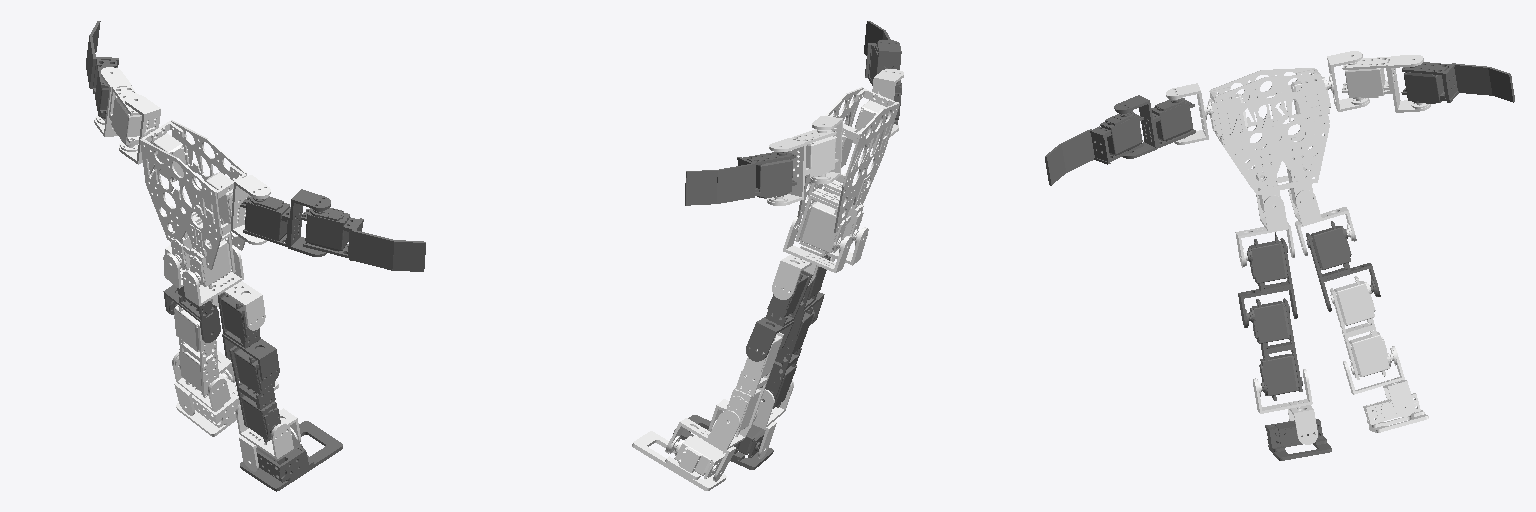
robot.urdf — hadron_urdf:
<robot
  name="hadron_urdf">
  <link
    name="base_link">
    <inertial>
      <origin
        xyz="-0.12049 0.02434 0.24105"
        rpy="0 0 0" />
      <mass
        value="0.12859" />
      <inertia
        ixx="0.00045781"
        ixy="1.7535E-05"
        ixz="4.7429E-05"
        iyy="0.00029671"
        iyz="2.2693E-05"
        izz="0.000194" />
    </inertial>
    <visual>
      <origin
        xyz="0 0 0"
        rpy="0 0 0" />
      <geometry>
        <mesh
          filename="package://hadron_urdf/meshes/base_link.STL" />
      </geometry>
      <material
        name="">
        <color
          rgba="1 1 1 1" />
      </material>
    </visual>
    <collision>
      <origin
        xyz="0 0 0"
        rpy="0 0 0" />
      <geometry>
        <mesh
          filename="package://hadron_urdf/meshes/base_link.STL" />
      </geometry>
    </collision>
  </link>
  <link
    name="lh">
    <inertial>
      <origin
        xyz="0.0063633 -0.00045084 0.005219"
        rpy="0 0 0" />
      <mass
        value="0.0096497" />
      <inertia
        ixx="7.3178E-07"
        ixy="-4.4687E-09"
        ixz="1.9803E-09"
        iyy="2.9532E-07"
        iyz="2.8745E-07"
        izz="4.3656E-07" />
    </inertial>
    <visual>
      <origin
        xyz="0 0 0"
        rpy="0 0 0" />
      <geometry>
        <mesh
          filename="package://hadron_urdf/meshes/lh.STL" />
      </geometry>
      <material
        name="">
        <color
          rgba="1 1 1 1" />
      </material>
    </visual>
    <collision>
      <origin
        xyz="0 0 0"
        rpy="0 0 0" />
      <geometry>
        <mesh
          filename="package://hadron_urdf/meshes/lh.STL" />
      </geometry>
    </collision>
  </link>
  <joint
    name="lhb"
    type="continuous">
    <origin
      xyz="-0.11052 -0.0628 0.28575"
      rpy="-1.7167 0.043718 -2.9675" />
    <parent
      link="base_link" />
    <child
      link="lh" />
    <axis
      xyz="0 0 1" />
  </joint>
  <link
    name="lh1">
    <inertial>
      <origin
        xyz="-0.013598 0.0019264 0.037691"
        rpy="0 0 0" />
      <mass
        value="0.037526" />
      <inertia
        ixx="1.6432E-05"
        ixy="-8.5053E-08"
        ixz="-3.5882E-07"
        iyy="1.2746E-05"
        iyz="-3.0384E-06"
        izz="3.7068E-06" />
    </inertial>
    <visual>
      <origin
        xyz="0 0 0"
        rpy="0 0 0" />
      <geometry>
        <mesh
          filename="package://hadron_urdf/meshes/lh1.STL" />
      </geometry>
      <material
        name="">
        <color
          rgba="0.50196 0.50196 0.50196 1" />
      </material>
    </visual>
    <collision>
      <origin
        xyz="0 0 0"
        rpy="0 0 0" />
      <geometry>
        <mesh
          filename="package://hadron_urdf/meshes/lh1.STL" />
      </geometry>
    </collision>
  </link>
  <joint
    name="lh01"
    type="continuous">
    <origin
      xyz="0 0 0"
      rpy="0 0.39914 3.1416" />
    <parent
      link="lh" />
    <child
      link="lh1" />
    <axis
      xyz="0 1 0" />
  </joint>
  <link
    name="lh2">
    <inertial>
      <origin
        xyz="-0.018771 0.0071206 0.043526"
        rpy="0 0 0" />
      <mass
        value="0.039826" />
      <inertia
        ixx="3.2464E-05"
        ixy="-2.6612E-07"
        ixz="4.0151E-06"
        iyy="3.0232E-05"
        iyz="1.9811E-06"
        izz="3.318E-06" />
    </inertial>
    <visual>
      <origin
        xyz="0 0 0"
        rpy="0 0 0" />
      <geometry>
        <mesh
          filename="package://hadron_urdf/meshes/lh2.STL" />
      </geometry>
      <material
        name="">
        <color
          rgba="0.50196 0.50196 0.50196 1" />
      </material>
    </visual>
    <collision>
      <origin
        xyz="0 0 0"
        rpy="0 0 0" />
      <geometry>
        <mesh
          filename="package://hadron_urdf/meshes/lh2.STL" />
      </geometry>
    </collision>
  </link>
  <joint
    name="lh12"
    type="continuous">
    <origin
      xyz="0.0020739 0 0.067034"
      rpy="-5.8713E-16 0.12054 -4.054E-16" />
    <parent
      link="lh1" />
    <child
      link="lh2" />
    <axis
      xyz="0 1 0" />
  </joint>
  <link
    name="rh">
    <inertial>
      <origin
        xyz="0.0059545 -0.0031561 -0.0066977"
        rpy="0 0 0" />
      <mass
        value="0.0096497" />
      <inertia
        ixx="7.3194E-07"
        ixy="-4.8656E-09"
        ixz="5.1332E-09"
        iyy="2.9536E-07"
        iyz="2.881E-07"
        izz="4.3676E-07" />
    </inertial>
    <visual>
      <origin
        xyz="0 0 0"
        rpy="0 0 0" />
      <geometry>
        <mesh
          filename="package://hadron_urdf/meshes/rh.STL" />
      </geometry>
      <material
        name="">
        <color
          rgba="1 1 1 1" />
      </material>
    </visual>
    <collision>
      <origin
        xyz="0 0 0"
        rpy="0 0 0" />
      <geometry>
        <mesh
          filename="package://hadron_urdf/meshes/rh.STL" />
      </geometry>
    </collision>
  </link>
  <joint
    name="bth"
    type="continuous">
    <origin
      xyz="-0.13961 0.10507 0.31115"
      rpy="1.4251 -0.0189 -2.9583" />
    <parent
      link="base_link" />
    <child
      link="rh" />
    <axis
      xyz="0 0 -1" />
  </joint>
  <link
    name="rh1">
    <inertial>
      <origin
        xyz="-0.0024803 -0.0014485 -0.0046369"
        rpy="0 0 0" />
      <mass
        value="0.037526" />
      <inertia
        ixx="3.7068E-06"
        ixy="3.5882E-07"
        ixz="3.0384E-06"
        iyy="1.6432E-05"
        iyz="-8.5053E-08"
        izz="1.2746E-05" />
    </inertial>
    <visual>
      <origin
        xyz="0 0 0"
        rpy="0 0 0" />
      <geometry>
        <mesh
          filename="package://hadron_urdf/meshes/rh1.STL" />
      </geometry>
      <material
        name="">
        <color
          rgba="1 1 1 1" />
      </material>
    </visual>
    <collision>
      <origin
        xyz="0 0 0"
        rpy="0 0 0" />
      <geometry>
        <mesh
          filename="package://hadron_urdf/meshes/rh1.STL" />
      </geometry>
    </collision>
  </link>
  <joint
    name="rh01"
    type="continuous">
    <origin
      xyz="-0.00050444 0 0.031483"
      rpy="1.5708 -1.2482 -3.1416" />
    <parent
      link="rh" />
    <child
      link="rh1" />
    <axis
      xyz="0 0 1" />
  </joint>
  <link
    name="rh2">
    <inertial>
      <origin
        xyz="0.0053295 0.0098311 0.0056848"
        rpy="0 0 0" />
      <mass
        value="0.039826" />
      <inertia
        ixx="3.2464E-05"
        ixy="-2.6612E-07"
        ixz="4.0151E-06"
        iyy="3.0232E-05"
        iyz="1.9811E-06"
        izz="3.318E-06" />
    </inertial>
    <visual>
      <origin
        xyz="0 0 0"
        rpy="0 0 0" />
      <geometry>
        <mesh
          filename="package://hadron_urdf/meshes/rh2.STL" />
      </geometry>
      <material
        name="">
        <color
          rgba="0.50196 0.50196 0.50196 1" />
      </material>
    </visual>
    <collision>
      <origin
        xyz="0 0 0"
        rpy="0 0 0" />
      <geometry>
        <mesh
          filename="package://hadron_urdf/meshes/rh2.STL" />
      </geometry>
    </collision>
  </link>
  <joint
    name="rh12"
    type="continuous">
    <origin
      xyz="0.067843 -0.0015655 0"
      rpy="-1.5708 1.1449E-15 -1.859" />
    <parent
      link="rh1" />
    <child
      link="rh2" />
    <axis
      xyz="0 -1 0" />
  </joint>
  <link
    name="ll">
    <inertial>
      <origin
        xyz="0.041975 0.030468 -0.00042427"
        rpy="0 0 0" />
      <mass
        value="0.017903" />
      <inertia
        ixx="4.8267E-06"
        ixy="-1.2663E-06"
        ixz="2.1249E-06"
        iyy="4.7725E-06"
        iyz="2.1536E-06"
        izz="3.3928E-06" />
    </inertial>
    <visual>
      <origin
        xyz="0 0 0"
        rpy="0 0 0" />
      <geometry>
        <mesh
          filename="package://hadron_urdf/meshes/ll.STL" />
      </geometry>
      <material
        name="">
        <color
          rgba="1 1 1 1" />
      </material>
    </visual>
    <collision>
      <origin
        xyz="0 0 0"
        rpy="0 0 0" />
      <geometry>
        <mesh
          filename="package://hadron_urdf/meshes/ll.STL" />
      </geometry>
    </collision>
  </link>
  <joint
    name="lb"
    type="continuous">
    <origin
      xyz="-0.13171 0.050956 0.15209"
      rpy="0.24049 0.12307 -1.3962" />
    <parent
      link="base_link" />
    <child
      link="ll" />
    <axis
      xyz="0 0.99993 0.011461" />
  </joint>
  <link
    name="ll1">
    <inertial>
      <origin
        xyz="-0.0060806 0.026764 0.010374"
        rpy="0 0 0" />
      <mass
        value="0.037677" />
      <inertia
        ixx="1.667E-05"
        ixy="-8.5758E-08"
        ixz="-3.6038E-07"
        iyy="1.2944E-05"
        iyz="-3.126E-06"
        izz="3.7463E-06" />
    </inertial>
    <visual>
      <origin
        xyz="0 0 0"
        rpy="0 0 0" />
      <geometry>
        <mesh
          filename="package://hadron_urdf/meshes/ll1.STL" />
      </geometry>
      <material
        name="">
        <color
          rgba="0.50196 0.50196 0.50196 1" />
      </material>
    </visual>
    <collision>
      <origin
        xyz="0 0 0"
        rpy="0 0 0" />
      <geometry>
        <mesh
          filename="package://hadron_urdf/meshes/ll1.STL" />
      </geometry>
    </collision>
  </link>
  <joint
    name="ll01"
    type="continuous">
    <origin
      xyz="0.024803 0.045703 -0.037799"
      rpy="-3.1416 -0.012822 1.5708" />
    <parent
      link="ll" />
    <child
      link="ll1" />
    <axis
      xyz="0 1 0" />
  </joint>
  <link
    name="ll2">
    <inertial>
      <origin
        xyz="-0.0077261 0.024559 0.030294"
        rpy="0 0 0" />
      <mass
        value="0.05715" />
      <inertia
        ixx="5.7881E-05"
        ixy="-6.0419E-15"
        ixz="2.3405E-06"
        iyy="5.2696E-05"
        iyz="-4.1257E-15"
        izz="5.3933E-06" />
    </inertial>
    <visual>
      <origin
        xyz="0 0 0"
        rpy="0 0 0" />
      <geometry>
        <mesh
          filename="package://hadron_urdf/meshes/ll2.STL" />
      </geometry>
      <material
        name="">
        <color
          rgba="0.50196 0.50196 0.50196 1" />
      </material>
    </visual>
    <collision>
      <origin
        xyz="0 0 0"
        rpy="0 0 0" />
      <geometry>
        <mesh
          filename="package://hadron_urdf/meshes/ll2.STL" />
      </geometry>
    </collision>
  </link>
  <joint
    name="ll12"
    type="continuous">
    <origin
      xyz="0.0020734 0.0086 0.067831"
      rpy="1.0004E-15 0.049331 1.7785E-15" />
    <parent
      link="ll1" />
    <child
      link="ll2" />
    <axis
      xyz="0 1 0" />
  </joint>
  <link
    name="ll3">
    <inertial>
      <origin
        xyz="0.0022982 -0.016989 -0.027262"
        rpy="0 0 0" />
      <mass
        value="0.017903" />
      <inertia
        ixx="4.8449E-06"
        ixy="-1.2751E-06"
        ixz="2.1348E-06"
        iyy="4.7945E-06"
        iyz="2.1644E-06"
        izz="3.3981E-06" />
    </inertial>
    <visual>
      <origin
        xyz="0 0 0"
        rpy="0 0 0" />
      <geometry>
        <mesh
          filename="package://hadron_urdf/meshes/ll3.STL" />
      </geometry>
      <material
        name="">
        <color
          rgba="1 1 1 1" />
      </material>
    </visual>
    <collision>
      <origin
        xyz="0 0 0"
        rpy="0 0 0" />
      <geometry>
        <mesh
          filename="package://hadron_urdf/meshes/ll3.STL" />
      </geometry>
    </collision>
  </link>
  <joint
    name="ll23"
    type="continuous">
    <origin
      xyz="-0.0027 0 0.0709"
      rpy="3.1416 -0.024806 3.6093E-16" />
    <parent
      link="ll2" />
    <child
      link="ll3" />
    <axis
      xyz="0 -1 0" />
  </joint>
  <link
    name="ll4">
    <inertial>
      <origin
        xyz="0.0056303 0.013992 0.032152"
        rpy="0 0 0" />
      <mass
        value="0.049115" />
      <inertia
        ixx="3.9086E-06"
        ixy="-1.5207E-06"
        ixz="9.8715E-08"
        iyy="1.8428E-06"
        iyz="9.498E-08"
        izz="5.7406E-06" />
    </inertial>
    <visual>
      <origin
        xyz="0 0 0"
        rpy="0 0 0" />
      <geometry>
        <mesh
          filename="package://hadron_urdf/meshes/ll4.STL" />
      </geometry>
      <material
        name="">
        <color
          rgba="0.50196 0.50196 0.50196 1" />
      </material>
    </visual>
    <collision>
      <origin
        xyz="0 0 0"
        rpy="0 0 0" />
      <geometry>
        <mesh
          filename="package://hadron_urdf/meshes/ll4.STL" />
      </geometry>
    </collision>
  </link>
  <joint
    name="ll34"
    type="continuous">
    <origin
      xyz="0 0.01392 -0.054593"
      rpy="-5.0002E-14 1.5576 -1.5708" />
    <parent
      link="ll3" />
    <child
      link="ll4" />
    <axis
      xyz="0 1 0" />
  </joint>
  <link
    name="rl">
    <inertial>
      <origin
        xyz="-0.014376 0.040645 -0.024768"
        rpy="0 0 0" />
      <mass
        value="0.017903" />
      <inertia
        ixx="4.117E-06"
        ixy="7.8457E-07"
        ixz="1.9766E-06"
        iyy="4.5886E-06"
        iyz="-1.5385E-06"
        izz="2.4831E-06" />
    </inertial>
    <visual>
      <origin
        xyz="0 0 0"
        rpy="0 0 0" />
      <geometry>
        <mesh
          filename="package://hadron_urdf/meshes/rl.STL" />
      </geometry>
      <material
        name="">
        <color
          rgba="1 1 1 1" />
      </material>
    </visual>
    <collision>
      <origin
        xyz="0 0 0"
        rpy="0 0 0" />
      <geometry>
        <mesh
          filename="package://hadron_urdf/meshes/rl.STL" />
      </geometry>
    </collision>
  </link>
  <joint
    name="brl"
    type="continuous">
    <origin
      xyz="-0.072249 0.080503 0.19884"
      rpy="-0.25684 -0.22879 1.7733" />
    <parent
      link="base_link" />
    <child
      link="rl" />
    <axis
      xyz="0 -1 0" />
  </joint>
  <link
    name="rl1">
    <inertial>
      <origin
        xyz="0.0065049 -0.005392 0.017993"
        rpy="0 0 0" />
      <mass
        value="0.037526" />
      <inertia
        ixx="1.6432E-05"
        ixy="-8.5053E-08"
        ixz="-3.5882E-07"
        iyy="1.2746E-05"
        iyz="-3.0384E-06"
        izz="3.7068E-06" />
    </inertial>
    <visual>
      <origin
        xyz="0 0 0"
        rpy="0 0 0" />
      <geometry>
        <mesh
          filename="package://hadron_urdf/meshes/rl1.STL" />
      </geometry>
      <material
        name="">
        <color
          rgba="0.50196 0.50196 0.50196 1" />
      </material>
    </visual>
    <collision>
      <origin
        xyz="0 0 0"
        rpy="0 0 0" />
      <geometry>
        <mesh
          filename="package://hadron_urdf/meshes/rl1.STL" />
      </geometry>
    </collision>
  </link>
  <joint
    name="rl01"
    type="continuous">
    <origin
      xyz="0 0.028761 -0.054343"
      rpy="3.1416 0.066046 1.5708" />
    <parent
      link="rl" />
    <child
      link="rl1" />
    <axis
      xyz="0 -1 0" />
  </joint>
  <link
    name="rl2">
    <inertial>
      <origin
        xyz="0.038437 -0.0049975 -0.00093777"
        rpy="0 0 0" />
      <mass
        value="0.05715" />
      <inertia
        ixx="5.3933E-06"
        ixy="-2.3405E-06"
        ixz="7.9977E-15"
        iyy="5.7881E-05"
        iyz="-1.587E-16"
        izz="5.2696E-05" />
    </inertial>
    <visual>
      <origin
        xyz="0 0 0"
        rpy="0 0 0" />
      <geometry>
        <mesh
          filename="package://hadron_urdf/meshes/rl2.STL" />
      </geometry>
      <material
        name="">
        <color
          rgba="1 1 1 1" />
      </material>
    </visual>
    <collision>
      <origin
        xyz="0 0 0"
        rpy="0 0 0" />
      <geometry>
        <mesh
          filename="package://hadron_urdf/meshes/rl2.STL" />
      </geometry>
    </collision>
  </link>
  <joint
    name="rl12"
    type="continuous">
    <origin
      xyz="0.0015655 0 0.067843"
      rpy="1.5708 -1.5145 -1.3809E-14" />
    <parent
      link="rl1" />
    <child
      link="rl2" />
    <axis
      xyz="0 0 1" />
  </joint>
  <link
    name="rl3">
    <inertial>
      <origin
        xyz="0.0026839 0.010177 -0.023992"
        rpy="0 0 0" />
      <mass
        value="0.017903" />
      <inertia
        ixx="4.5718E-06"
        ixy="-1.1309E-06"
        ixz="2.1271E-06"
        iyy="4.7809E-06"
        iyz="1.4526E-06"
        izz="3.1187E-06" />
    </inertial>
    <visual>
      <origin
        xyz="0 0 0"
        rpy="0 0 0" />
      <geometry>
        <mesh
          filename="package://hadron_urdf/meshes/rl3.STL" />
      </geometry>
      <material
        name="">
        <color
          rgba="1 1 1 1" />
      </material>
    </visual>
    <collision>
      <origin
        xyz="0 0 0"
        rpy="0 0 0" />
      <geometry>
        <mesh
          filename="package://hadron_urdf/meshes/rl3.STL" />
      </geometry>
    </collision>
  </link>
  <joint
    name="rl23"
    type="continuous">
    <origin
      xyz="0.0812 0.0027 0"
      rpy="-1.5708 -8.285E-15 1.7101" />
    <parent
      link="rl2" />
    <child
      link="rl3" />
    <axis
      xyz="0 -1 0" />
  </joint>
  <link
    name="rl4">
    <inertial>
      <origin
        xyz="0.032122 -0.0026723 -0.014344"
        rpy="0 0 0" />
      <mass
        value="0.049115" />
      <inertia
        ixx="5.7406E-06"
        ixy="-9.8715E-08"
        ixz="-9.498E-08"
        iyy="3.9086E-06"
        iyz="-1.5207E-06"
        izz="1.8428E-06" />
    </inertial>
    <visual>
      <origin
        xyz="0 0 0"
        rpy="0 0 0" />
      <geometry>
        <mesh
          filename="package://hadron_urdf/meshes/rl4.STL" />
      </geometry>
      <material
        name="">
        <color
          rgba="1 1 1 1" />
      </material>
    </visual>
    <collision>
      <origin
        xyz="0 0 0"
        rpy="0 0 0" />
      <geometry>
        <mesh
          filename="package://hadron_urdf/meshes/rl4.STL" />
      </geometry>
    </collision>
  </link>
  <joint
    name="rl34"
    type="continuous">
    <origin
      xyz="0 0.0401403654822361 -0.0544957136095978"
      rpy="1.5707963267949 -0.0230856149439591 -1.57079632679493" />
    <parent
      link="rl3" />
    <child
      link="rl4" />
    <axis
      xyz="0 0 -1" />
  </joint>
</robot>

--- Facts derived from the render (not from the file) ---
The picture shows the robot from 3 angles, left to right: view 1: azimuth 30°, elevation 25°; view 2: azimuth 150°, elevation 25°; view 3: azimuth 270°, elevation 25°; orthographic projection.
Model hadron_urdf with 17 links and 16 joints (16 continuous), rooted at base_link, posed every joint at zero.
Visible links, largest first — view 1: base_link, lh2, lh1, ll4, ll2, rl2, ll1, ll, rh1, ll3, rl3, rl4 (+5 smaller); view 2: base_link, rh2, rl4, rh1, rl, rl1, rl2, rl3, ll2, ll3, ll4, ll1 (+5 smaller); view 3: base_link, rh2, lh2, rl2, ll2, lh1, rh1, ll1, rl1, ll3, ll4, ll (+5 smaller).
Boxes of the visible links, x1=… form: base_link: x1=140, y1=120, x2=246, y2=288; lh2: x1=301, y1=208, x2=425, y2=271; lh1: x1=240, y1=189, x2=330, y2=256; ll4: x1=240, y1=421, x2=342, y2=491; ll2: x1=229, y1=346, x2=280, y2=442; rl2: x1=174, y1=305, x2=218, y2=397; ll1: x1=218, y1=293, x2=279, y2=384; ll: x1=182, y1=245, x2=265, y2=330; rh1: x1=94, y1=67, x2=141, y2=145; ll3: x1=236, y1=404, x2=300, y2=471; rl3: x1=172, y1=351, x2=235, y2=415; rl4: x1=176, y1=373, x2=278, y2=436; base_link: x1=795, y1=87, x2=899, y2=256; rh2: x1=685, y1=152, x2=796, y2=205; rl4: x1=632, y1=431, x2=726, y2=490; rh1: x1=767, y1=129, x2=838, y2=205; rl: x1=772, y1=215, x2=851, y2=299; rl1: x1=746, y1=270, x2=812, y2=361; rl2: x1=726, y1=332, x2=783, y2=436; rl3: x1=665, y1=410, x2=757, y2=481; ll2: x1=760, y1=307, x2=813, y2=408; ll3: x1=708, y1=380, x2=793, y2=458; ll4: x1=673, y1=415, x2=773, y2=469; ll1: x1=786, y1=255, x2=830, y2=340; base_link: x1=1207, y1=68, x2=1330, y2=214; rh2: x1=1401, y1=62, x2=1514, y2=103; lh2: x1=1045, y1=111, x2=1143, y2=185; rl2: x1=1330, y1=276, x2=1391, y2=379; ll2: x1=1249, y1=298, x2=1302, y2=400; lh1: x1=1114, y1=95, x2=1195, y2=158; rh1: x1=1342, y1=55, x2=1430, y2=112; ll1: x1=1238, y1=232, x2=1297, y2=327; rl1: x1=1306, y1=221, x2=1380, y2=311; ll3: x1=1253, y1=369, x2=1317, y2=444; ll4: x1=1265, y1=419, x2=1331, y2=460; ll: x1=1235, y1=195, x2=1294, y2=267.
Bounding box of the posed robot: 0.2187 × 0.5258 × 0.4358 m (x, y, z).
Meshes: 17 distinct files referenced, 17 mesh visuals loaded (17 binary STL).